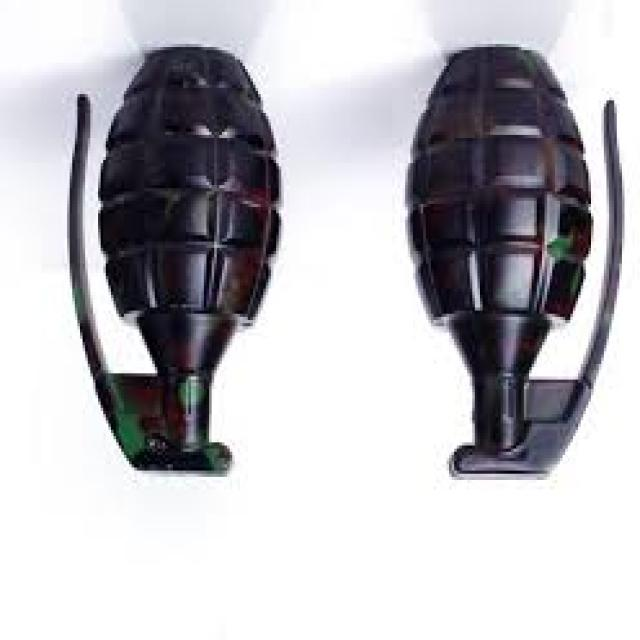grenade: (55, 40, 299, 486), (397, 46, 636, 490)
